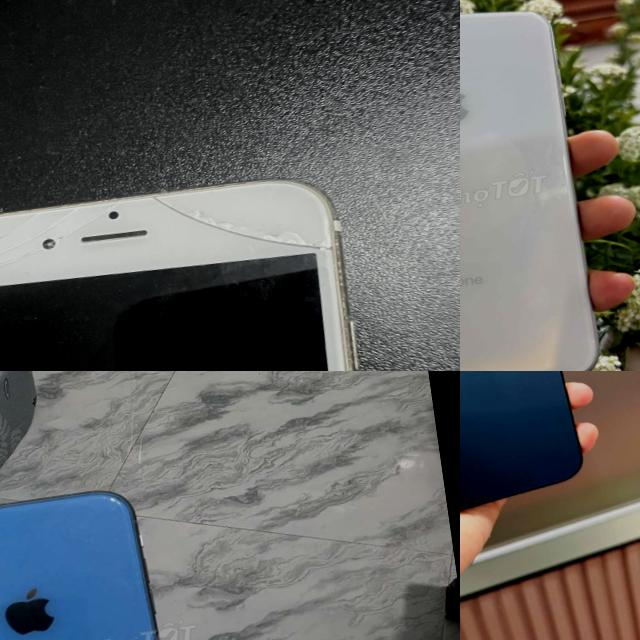gen_15: (460, 371, 606, 526)
gen_7_8: (0, 164, 392, 371)
gen_x_xs: (460, 12, 598, 371), (0, 471, 215, 640)
